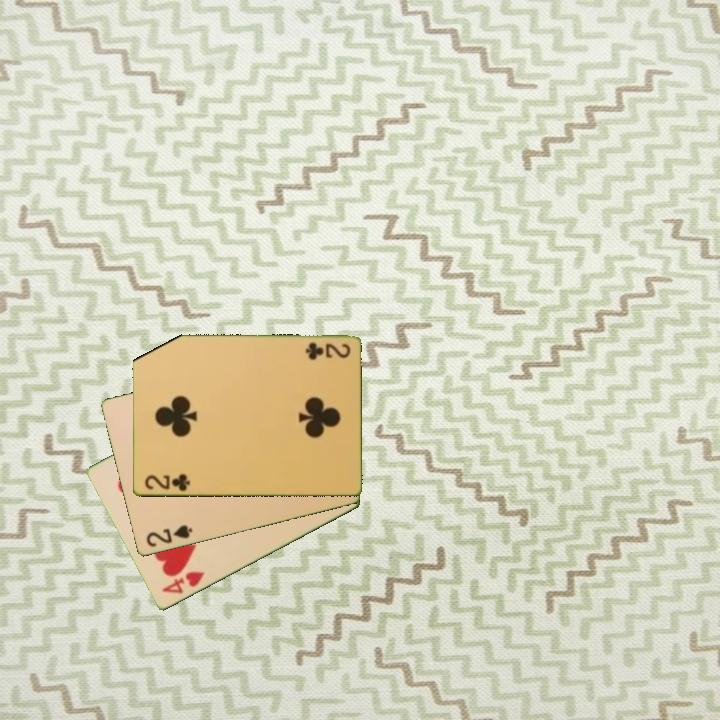2c: (141, 471, 193, 494), (301, 339, 353, 361)
2s: (142, 522, 195, 550)
4h: (158, 568, 208, 597)
